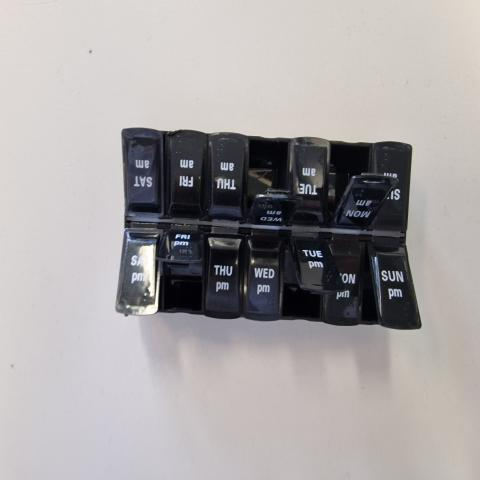Open: (324, 142, 398, 226), (245, 139, 301, 221), (285, 241, 345, 316), (158, 234, 204, 312), (361, 241, 378, 323), (160, 128, 169, 216)
